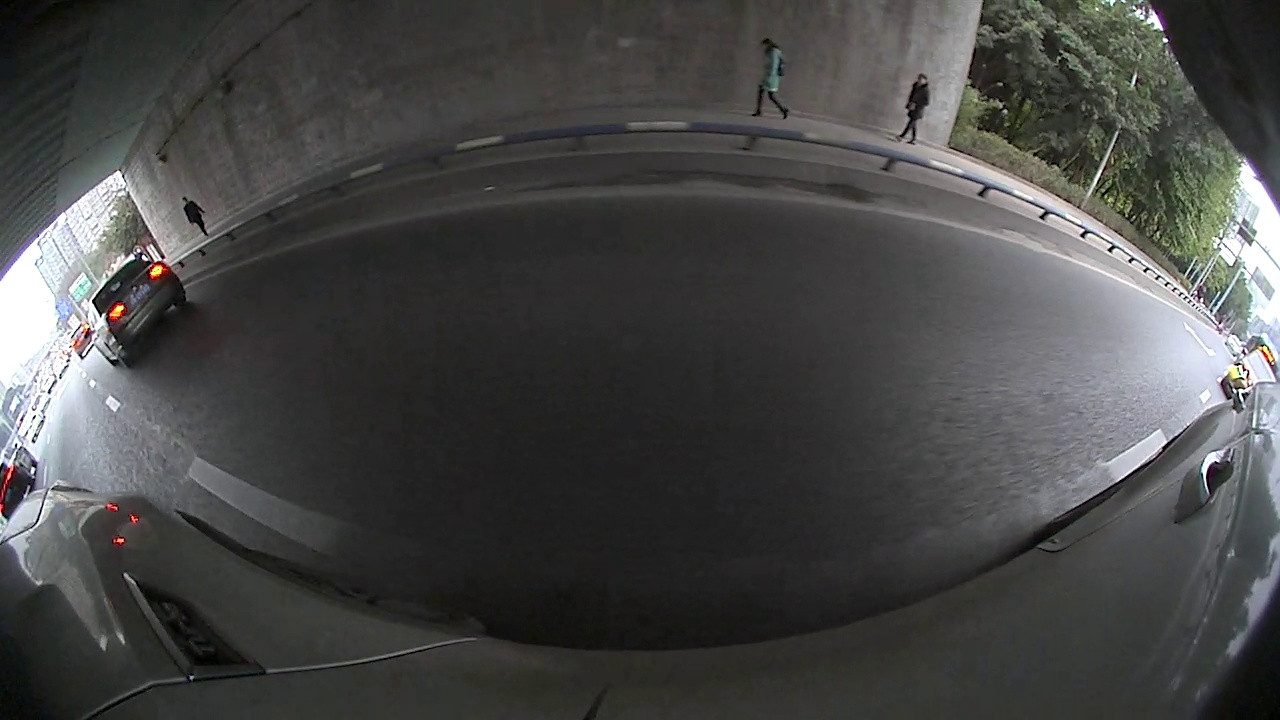car: (87, 257, 188, 369), (1220, 346, 1279, 400), (0, 443, 39, 519)
person: (760, 37, 780, 116), (910, 72, 929, 144), (183, 197, 198, 237)
rear: (118, 341, 139, 365), (172, 290, 189, 314)
